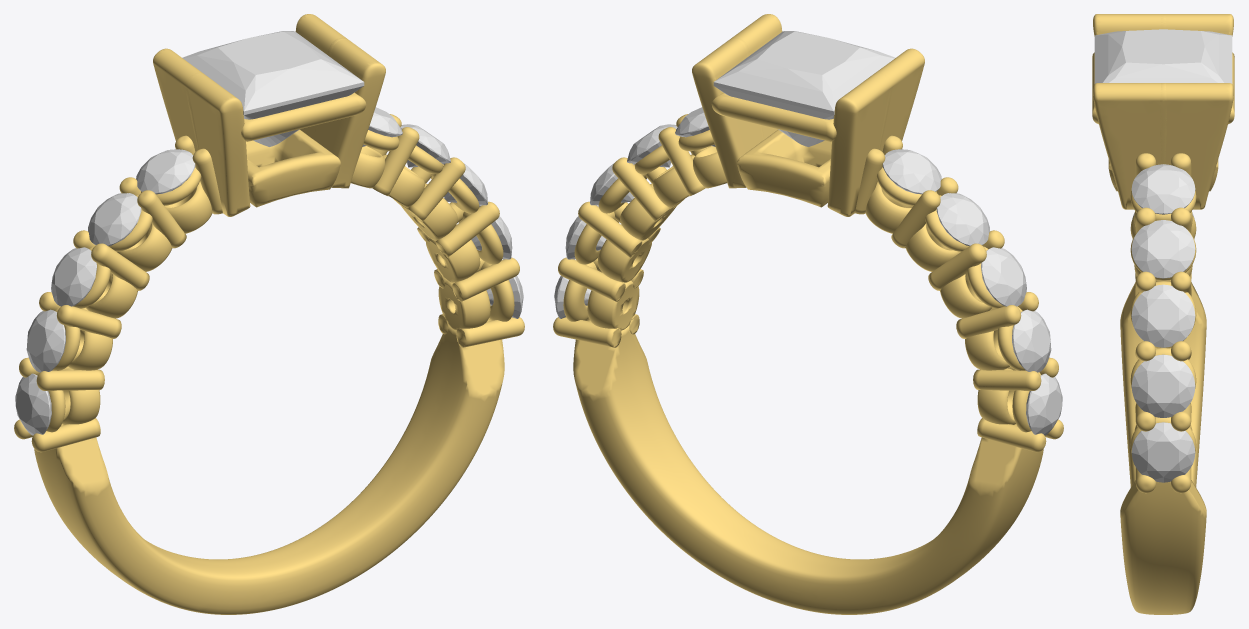
Rendered from diamond-princess-yellowgold-halfmoonbezel-straighttaperedband-11stone.glb.
3 views of the same model, side by side, from view 1: azimuth 30°, elevation 25°; view 2: azimuth 150°, elevation 25°; view 3: azimuth 270°, elevation 25° (orthographic).
Visible parts, largest first — view 1: metal, stone, side.004, side.003, side.005, side.002, side, side.007; view 2: metal, stone, side.004, side.003, side.005, side.002, side, side.007; view 3: metal, stone, side.009, side.008, side.007, side.001, side.006.
Boxes of the visible parts, x1,y1,x2,y2 form: metal: [14, 14, 524, 614]; stone: [182, 31, 364, 146]; side.004: [88, 193, 141, 246]; side.003: [51, 247, 96, 306]; side.005: [136, 149, 195, 194]; side.002: [26, 309, 65, 372]; side: [15, 373, 51, 435]; side.007: [400, 124, 450, 167]; metal: [553, 14, 1063, 614]; stone: [713, 31, 895, 146]; side.004: [936, 193, 989, 246]; side.003: [981, 247, 1026, 306]; side.005: [882, 149, 941, 194]; side.002: [1012, 309, 1051, 372]; side: [1026, 373, 1062, 435]; side.007: [627, 124, 677, 167]; metal: [1092, 14, 1234, 614]; stone: [1094, 29, 1232, 83]; side.009: [1131, 354, 1195, 417]; side.008: [1131, 284, 1195, 347]; side.007: [1131, 220, 1195, 278]; side.001: [1131, 422, 1195, 482]; side.006: [1131, 164, 1195, 214].
Size of the model in its own units: 22.23 by 23.65 by 5.6.
